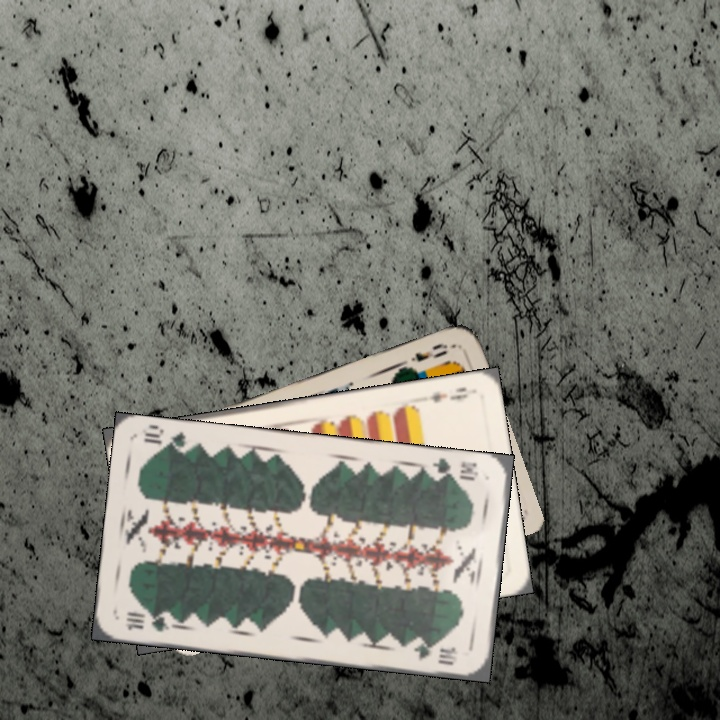E9: (426, 383, 471, 405)
EO: (406, 339, 451, 364)
G10: (428, 454, 481, 483), (121, 608, 177, 635)
